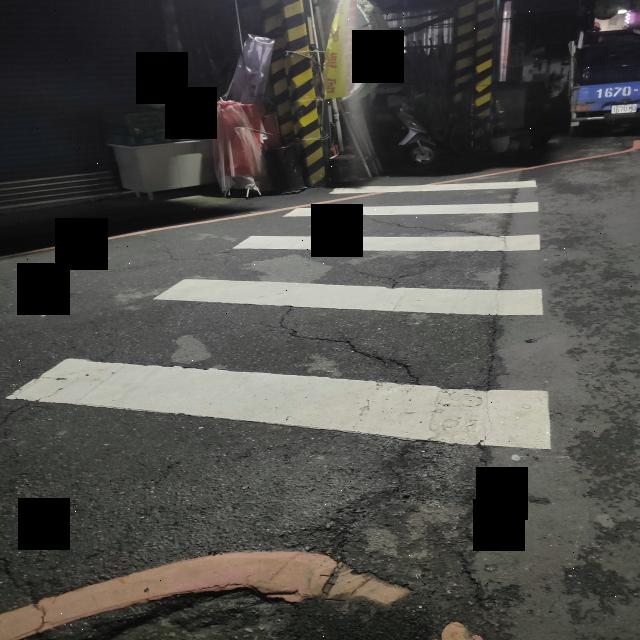zebra crossing: (7, 184, 549, 444)
